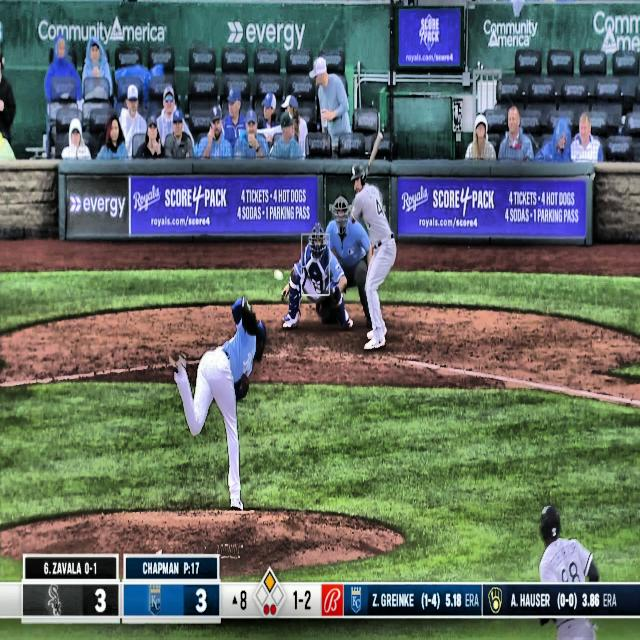baseball: (274, 269, 283, 282)
